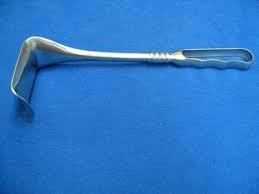Kelly Retractor: (11, 33, 256, 109)
